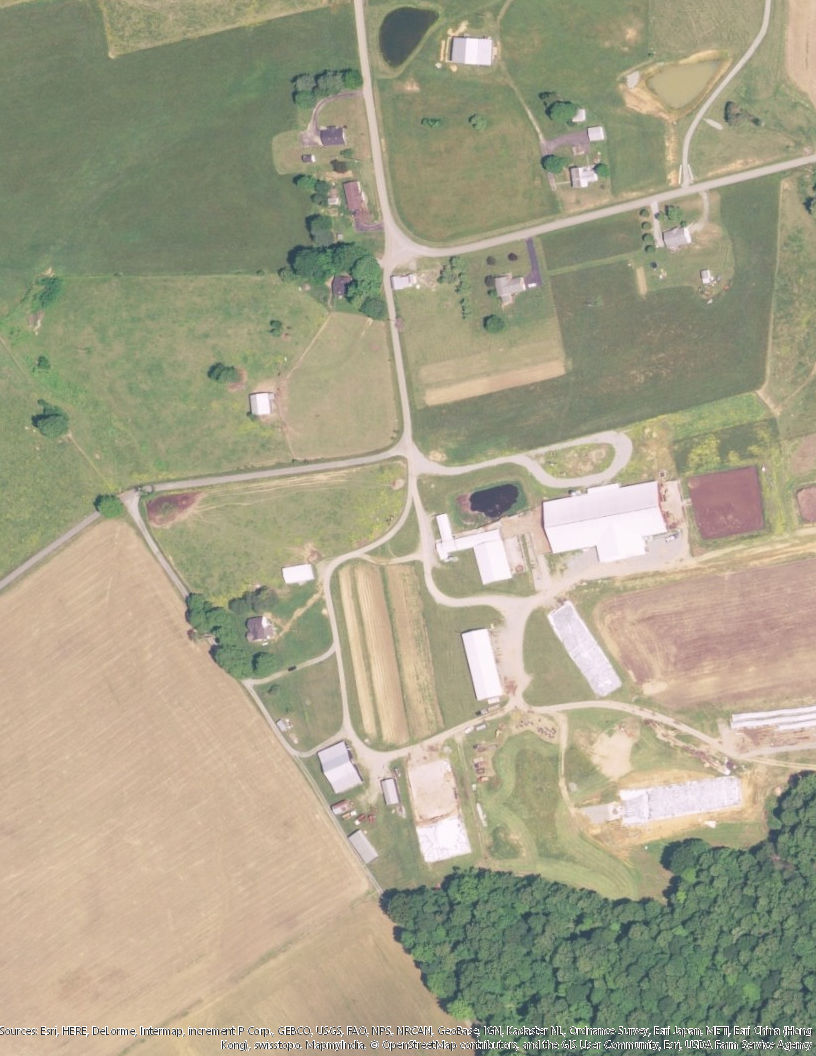cafo: (542, 476, 690, 569), (433, 513, 519, 588), (457, 620, 514, 710), (284, 559, 320, 588)
